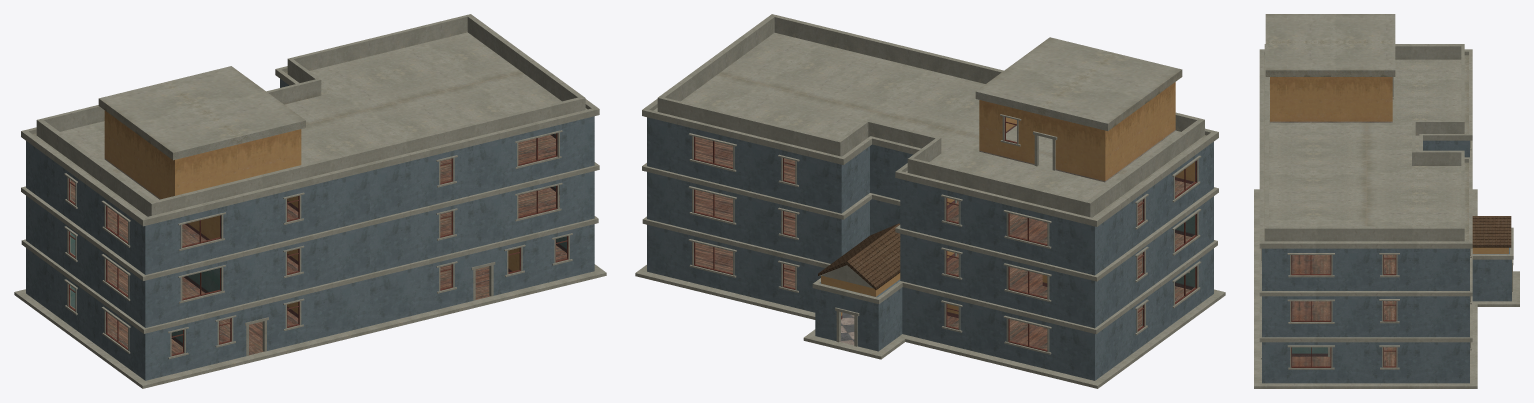
Rendered from BuildingLarge3c012048.glb.
The picture shows the model from 3 angles, left to right: view 1: azimuth 30°, elevation 25°; view 2: azimuth 150°, elevation 25°; view 3: azimuth 270°, elevation 25°; orthographic projection. The views are drawn at different scales.
Parts seen in each view (by area): view 1: xiutz_building_large_3c_01_2; view 2: xiutz_building_large_3c_01_2; view 3: xiutz_building_large_3c_01_2.
Boxes of the visible parts, left/top/right/bottom form: xiutz_building_large_3c_01_2: left=14, top=14, right=606, bottom=388; xiutz_building_large_3c_01_2: left=635, top=14, right=1225, bottom=388; xiutz_building_large_3c_01_2: left=1254, top=14, right=1519, bottom=388.
Bounding box in the file's own units: 45.07 × 20.63 × 25.67.
1 material, 1 textured.
